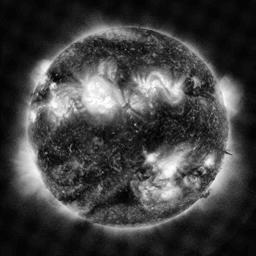solar flares: (77, 80, 118, 122), (137, 180, 179, 206), (50, 88, 75, 119), (136, 78, 156, 101), (162, 80, 181, 102), (160, 157, 177, 181), (122, 97, 140, 116), (142, 149, 159, 165), (202, 152, 216, 171)
sunspots: (101, 184, 134, 207), (39, 146, 66, 165), (100, 41, 145, 52), (138, 127, 158, 147), (160, 109, 187, 123), (49, 73, 73, 87), (80, 173, 102, 184), (96, 131, 113, 142), (197, 125, 212, 137), (184, 83, 196, 96), (203, 82, 211, 91)
